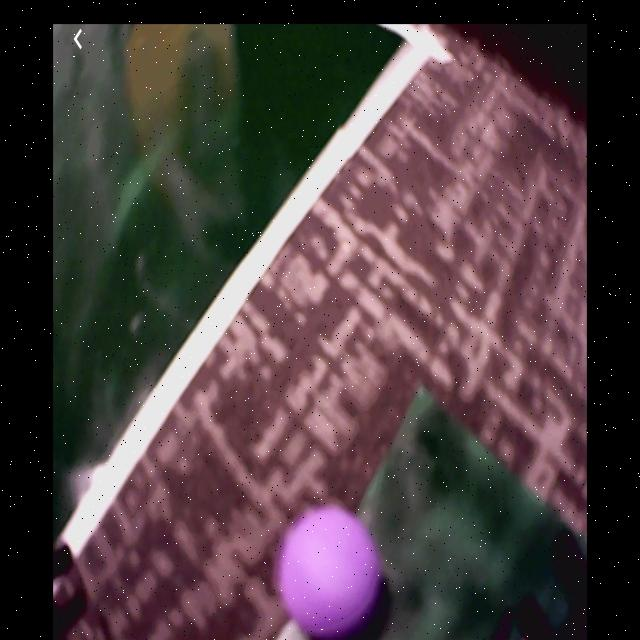ball: (280, 504, 382, 639)
